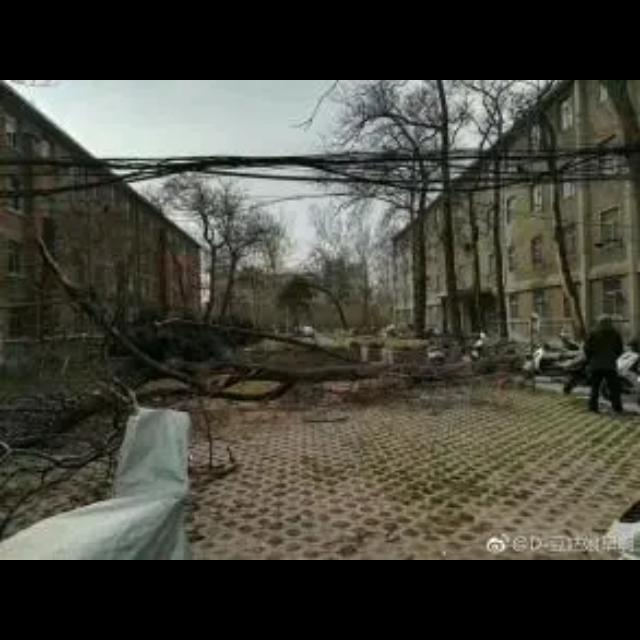fallen_tree: (2, 243, 514, 509)
